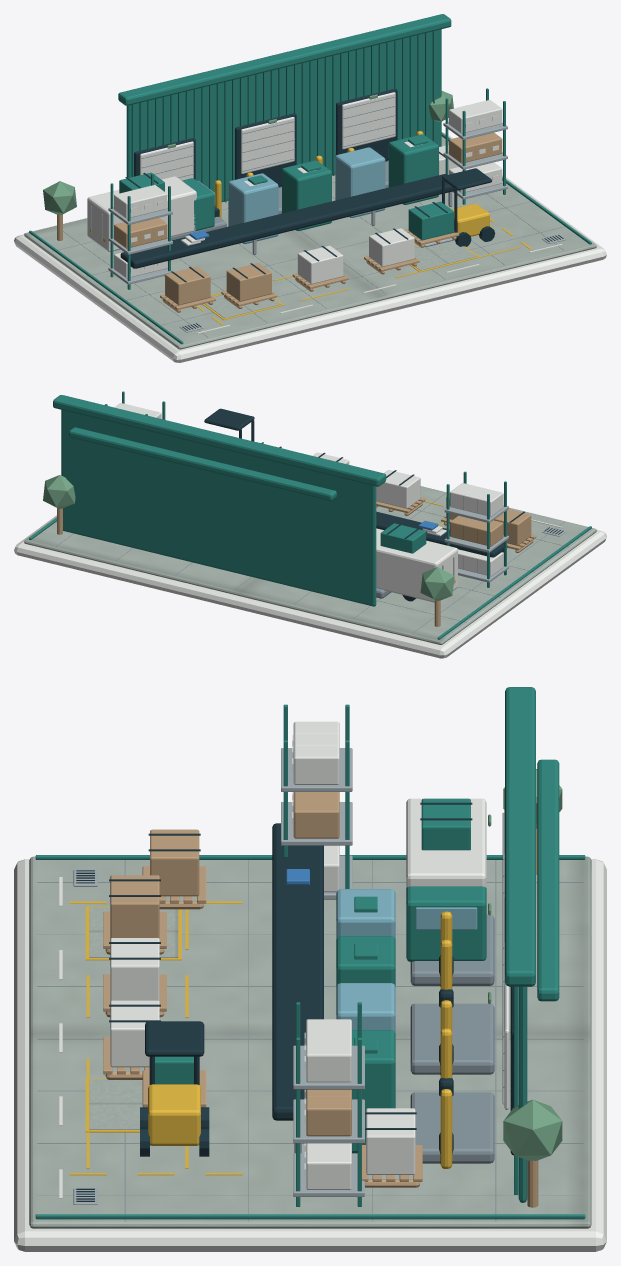
3 views of the same model, one above another, from view 1: azimuth 30°, elevation 25°; view 2: azimuth 150°, elevation 25°; view 3: azimuth 270°, elevation 25° (orthographic). The views are drawn at different scales.
Parts seen in each view (by area): view 1: StaticWorkshop_1, Activity ground, StaticWorkshop_0, StaticWorkshop_3, StaticWorkshop_7, StaticWorkshop_2, StaticWorkshop_4, Delivery van, Dock shutter.002, Dock shutter.001, StaticWorkshop_9, Dock shutter (+8 smaller); view 2: StaticWorkshop_1, Activity ground, StaticWorkshop_0, Delivery van, StaticWorkshop_7, StaticWorkshop_8, StaticWorkshop_4, StaticWorkshop_3, Loaded data load, Delivery fork roof, StaticWorkshop_5; view 3: Activity ground, StaticWorkshop_0, StaticWorkshop_1, StaticWorkshop_5, StaticWorkshop_7, StaticWorkshop_3, StaticWorkshop_4, StaticWorkshop_6, StaticWorkshop_2, Delivery van, Van cab, StaticWorkshop_9 (+7 smaller).
Boxes of the visible parts, left/top/right/bottom form: StaticWorkshop_1: left=29, top=14, right=591, bottom=344; Activity ground: left=24, top=132, right=596, bottom=349; StaticWorkshop_0: left=14, top=100, right=606, bottom=362; StaticWorkshop_3: left=120, top=88, right=563, bottom=330; StaticWorkshop_7: left=57, top=132, right=502, bottom=312; StaticWorkshop_2: left=228, top=147, right=385, bottom=244; StaticWorkshop_4: left=108, top=122, right=565, bottom=332; Delivery van: left=87, top=176, right=196, bottom=251; Dock shutter.002: left=342, top=92, right=395, bottom=149; Dock shutter.001: left=241, top=117, right=294, bottom=173; StaticWorkshop_9: left=205, top=240, right=477, bottom=318; Dock shutter: left=140, top=141, right=193, bottom=180; StaticWorkshop_1: left=29, top=391, right=591, bottom=639; Activity ground: left=24, top=486, right=596, bottom=644; StaticWorkshop_0: left=14, top=403, right=606, bottom=658; Delivery van: left=376, top=528, right=457, bottom=602; StaticWorkshop_7: left=57, top=494, right=536, bottom=626; StaticWorkshop_8: left=43, top=475, right=454, bottom=600; StaticWorkshop_4: left=444, top=505, right=565, bottom=582; StaticWorkshop_3: left=318, top=452, right=563, bottom=557; Loaded data load: left=380, top=523, right=426, bottom=553; Delivery fork roof: left=204, top=408, right=254, bottom=430; StaticWorkshop_5: left=51, top=493, right=569, bottom=632; Activity ground: left=29, top=856, right=591, bottom=1228; StaticWorkshop_0: left=14, top=721, right=606, bottom=1251; StaticWorkshop_1: left=35, top=687, right=585, bottom=1219; StaticWorkshop_5: left=37, top=860, right=583, bottom=1221; StaticWorkshop_7: left=103, top=792, right=538, bottom=1207; StaticWorkshop_3: left=76, top=823, right=513, bottom=1201; StaticWorkshop_4: left=73, top=748, right=364, bottom=1204; StaticWorkshop_6: left=69, top=901, right=452, bottom=1175; StaticWorkshop_2: left=336, top=889, right=395, bottom=1033; Delivery van: left=406, top=798, right=486, bottom=887; Van cab: left=406, top=886, right=486, bottom=961; StaticWorkshop_9: left=89, top=907, right=178, bottom=1129.
Bounding box in the file's own units: 7.3 × 2.37 × 4.8.
17 materials, 1 textured.
